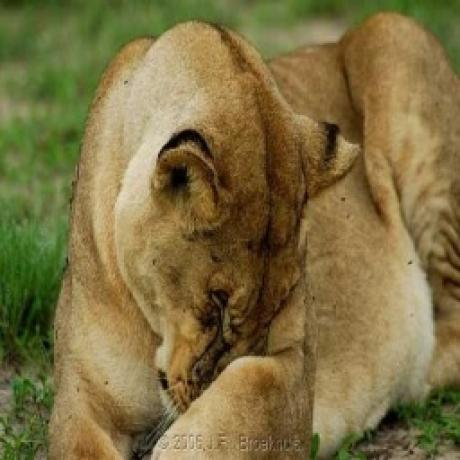Lion: (48, 8, 460, 460)
